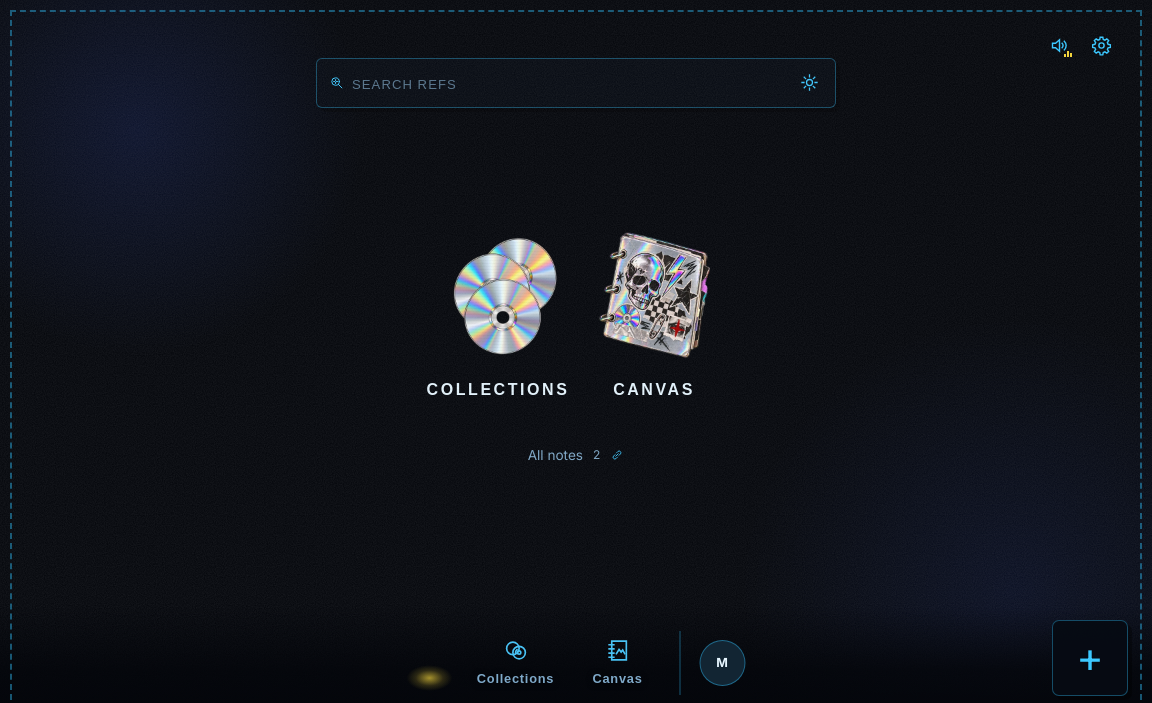
Test: App › shows collection previews and opens a collection in the library
Expected: the button "All notes 2" is shown, x1=516 y1=433 x2=636 y2=477
Click the 2nd button "Collections": {"x": 516, "y": 663} x1=468 y1=629 x2=564 y2=697
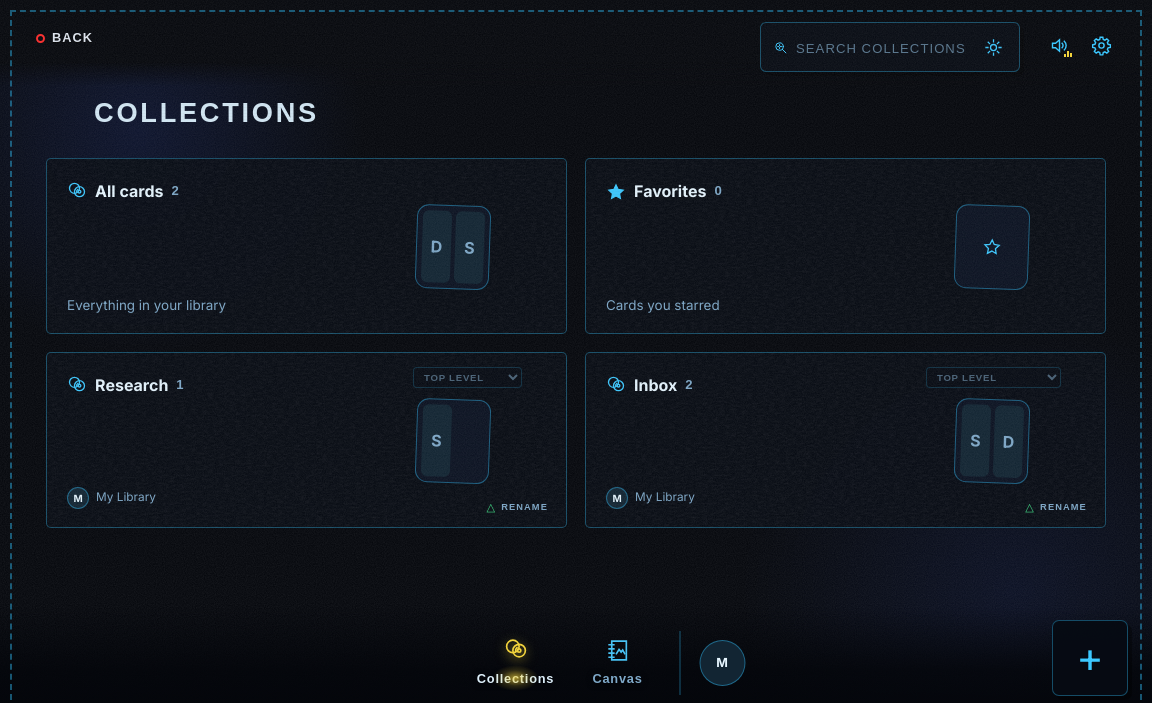
Click the button with aria-label "Open collection Inbox": {"x": 992, "y": 441} x1=586 y1=353 x2=1105 y2=527
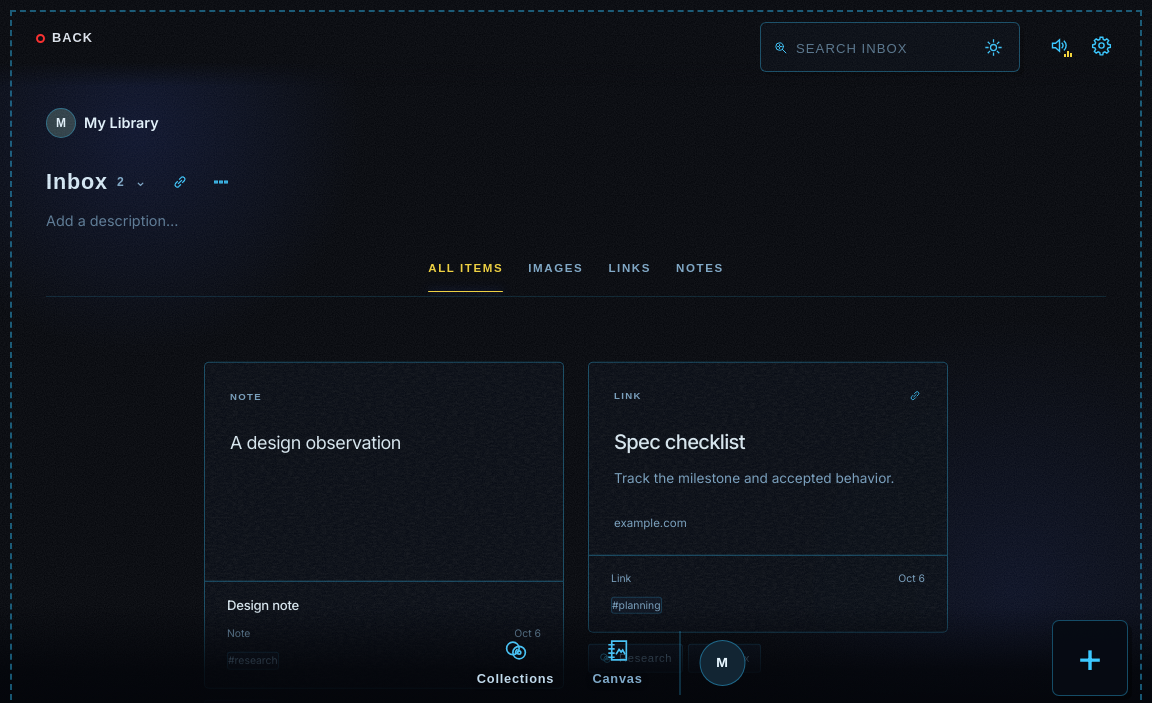
Expected: the heading "Spec checklist" is shown, x1=614 y1=428 x2=745 y2=453
